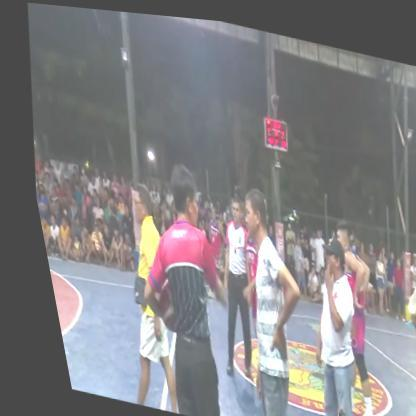basketball: (138, 278, 171, 333)
